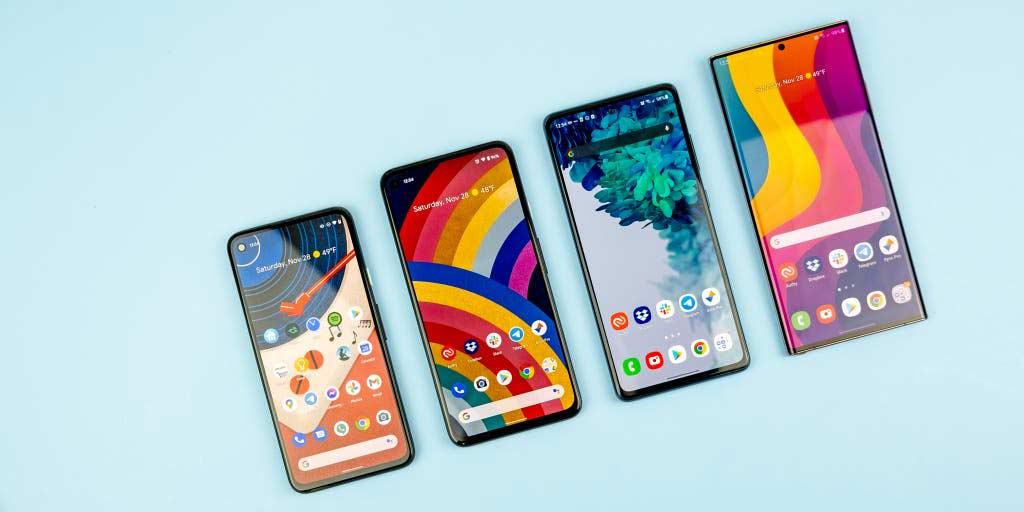Smartphone: (713, 34, 970, 353), (530, 95, 738, 402), (190, 211, 402, 505), (368, 148, 559, 444)
